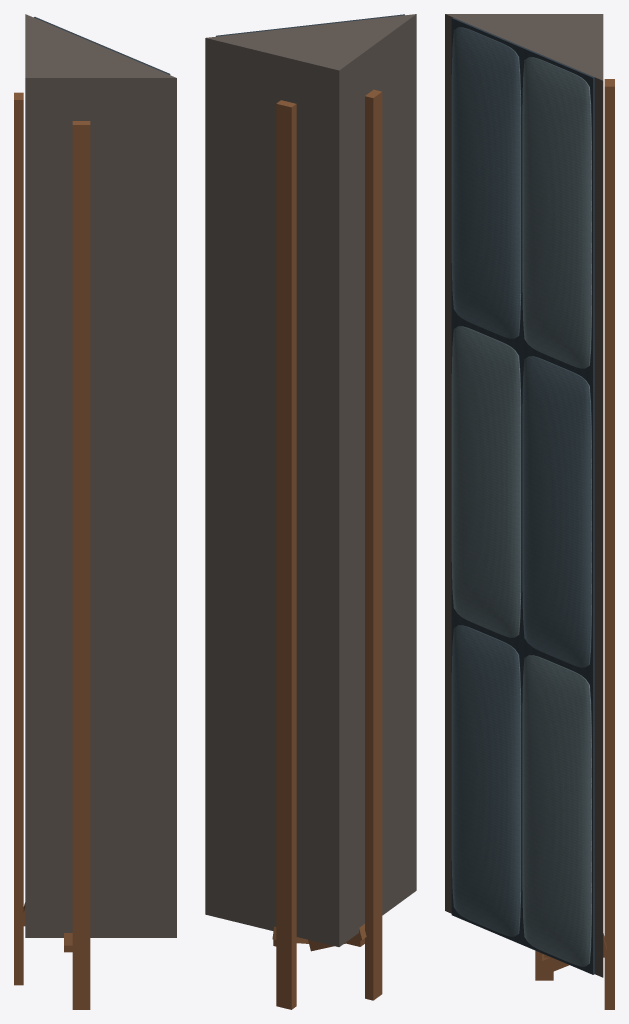
3 views of the same model, side by side, from view 1: azimuth 90°, elevation 25°; view 2: azimuth 150°, elevation 25°; view 3: azimuth 270°, elevation 25° (orthographic). The views are drawn at different scales.
Parts seen in each view (by area): view 1: triangular-core, x-rail, z-rail; view 2: triangular-core, z-rail, x-rail; view 3: padded-cell-0-0, padded-cell-1-0, padded-cell-2-0, padded-cell-0-1, padded-cell-1-1, padded-cell-2-1, triangular-core, z-rail, seam-backing.
Boxes of the visible parts, <box> form: triangular-core: <box>25,14,176,937</box>; x-rail: <box>72,121,90,1009</box>; z-rail: <box>14,92,23,985</box>; triangular-core: <box>205,14,416,946</box>; z-rail: <box>276,100,296,1009</box>; x-rail: <box>365,89,382,1000</box>; padded-cell-0-0: <box>451,625,521,936</box>; padded-cell-1-0: <box>451,326,521,637</box>; padded-cell-2-0: <box>451,27,521,338</box>; padded-cell-0-1: <box>522,655,591,966</box>; padded-cell-1-1: <box>522,356,591,667</box>; padded-cell-2-1: <box>522,57,591,368</box>; triangular-core: <box>445,14,603,977</box>; z-rail: <box>604,79,614,1009</box>; seam-backing: <box>451,17,594,974</box>.
Size of the model in its own units: 0.35 by 2.2 by 0.35.
Materials: 14 (7 with a texture image).
